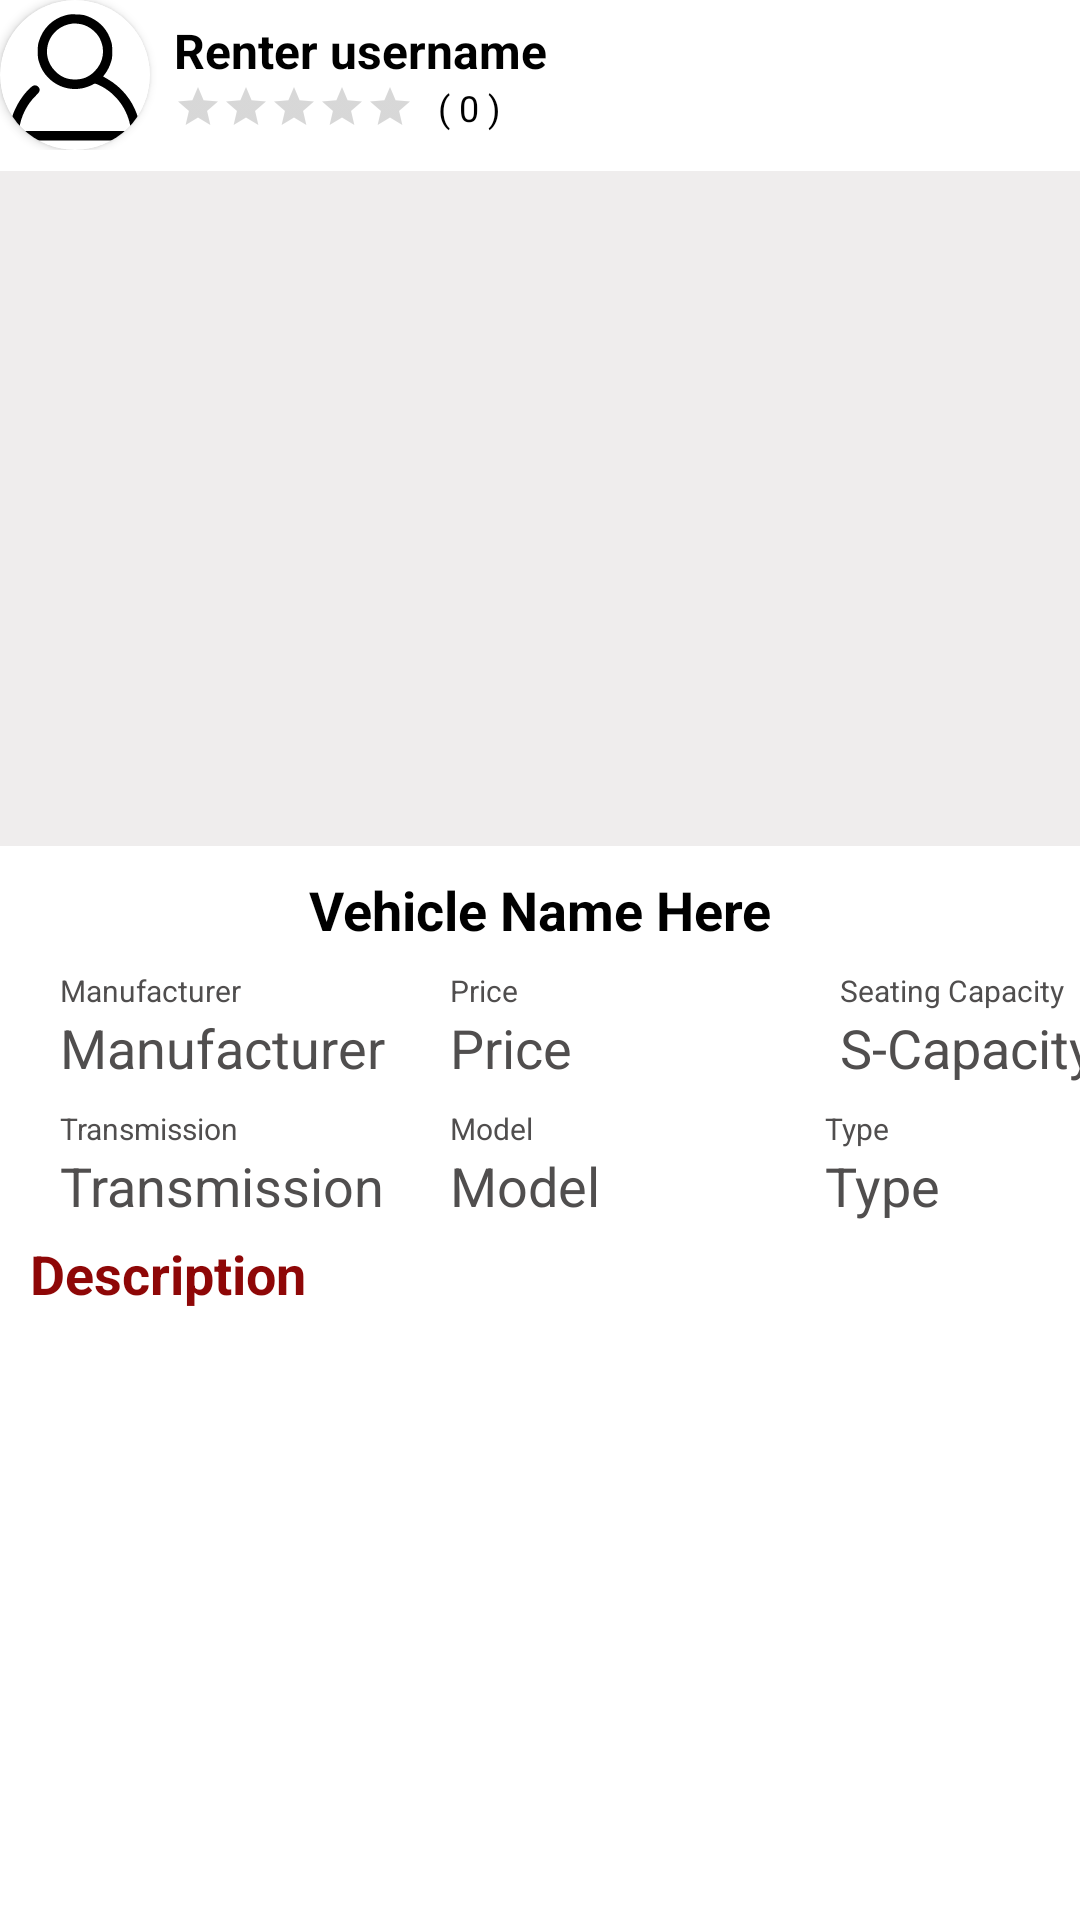

Screen size 1080w x 1920h. Icon name, then its box in pixels as Rect(x1, y1, x2, y2):
profile: Rect(0, 2, 138, 150)
